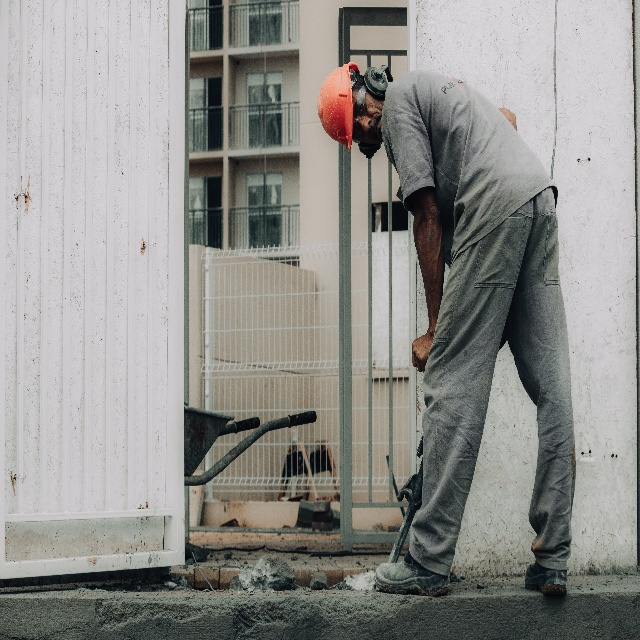Sin_guantes: (411, 329, 437, 376)
